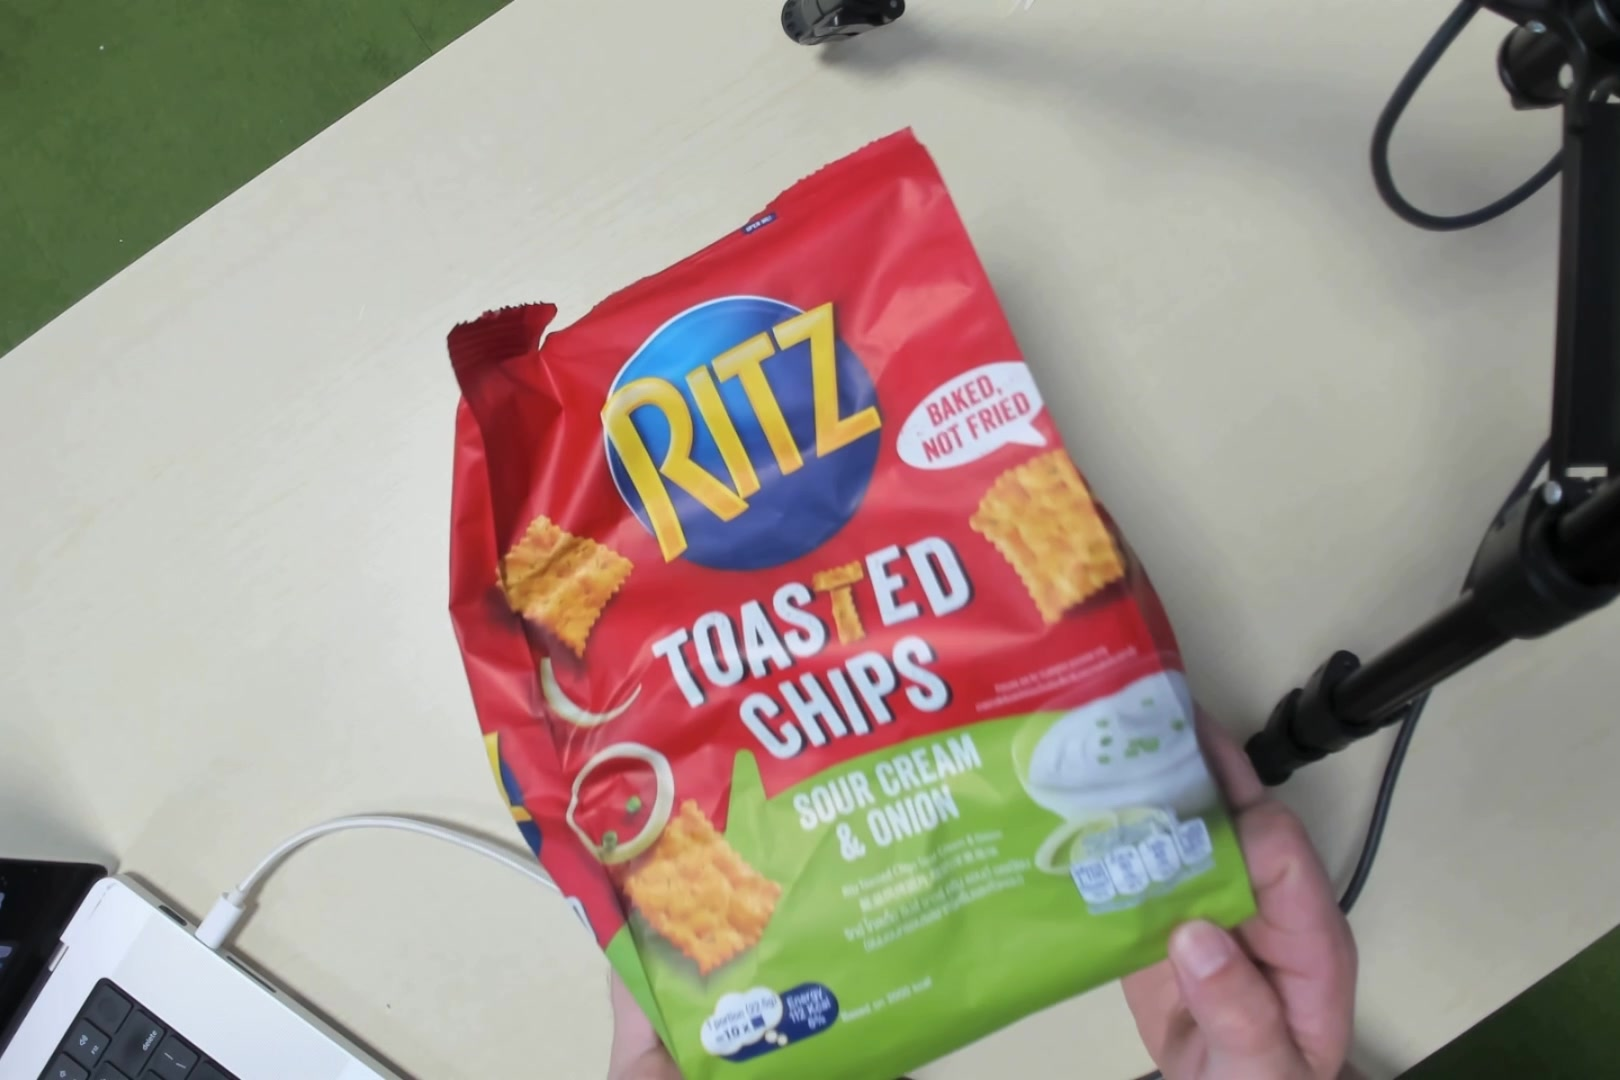BiscuitsCrackersCookies_200-299g_NonHalal_NonHealthy: (560, 263, 1145, 1012)
